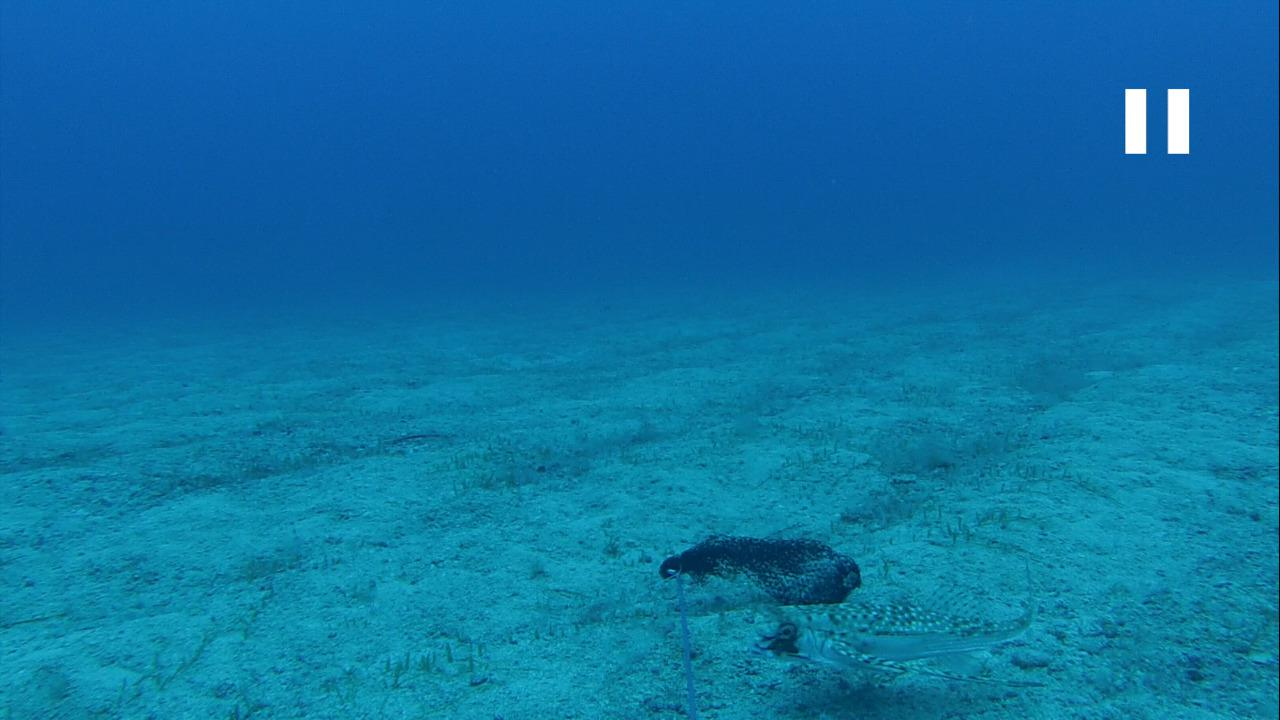dactylopterus: (753, 563, 1096, 716)
